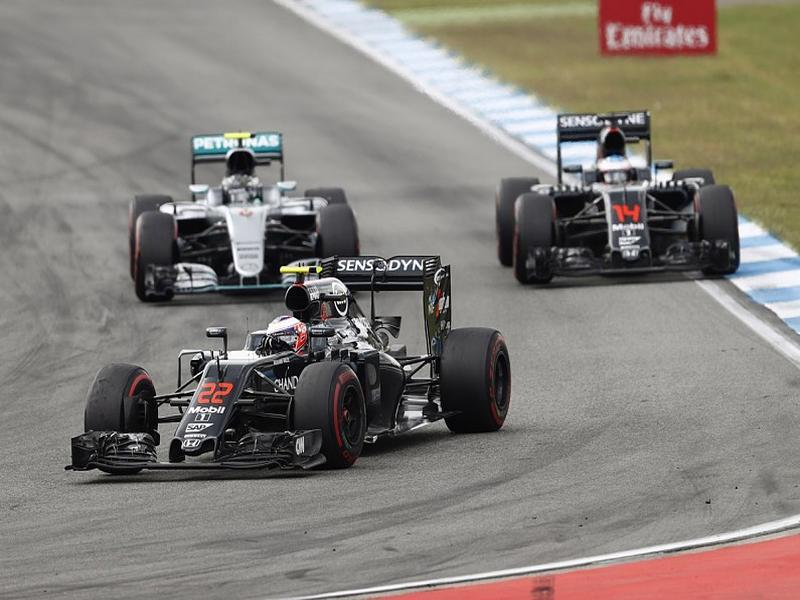f1: (85, 251, 527, 493), (118, 126, 401, 296), (493, 105, 737, 272)
